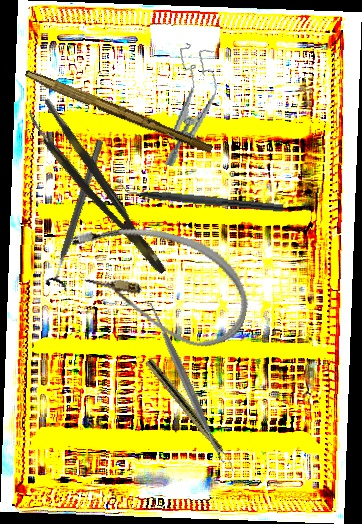Cannula: (53, 209, 261, 357)
Chopper: (113, 178, 286, 213)
Fixation Ring: (44, 136, 112, 292)
Handpiece: (143, 357, 241, 474)
Scalpel Handle: (22, 69, 215, 155)
Spatula Surgical: (139, 295, 232, 468)
Speculum: (156, 42, 225, 172)
Tissue Forceps: (23, 97, 170, 286)
